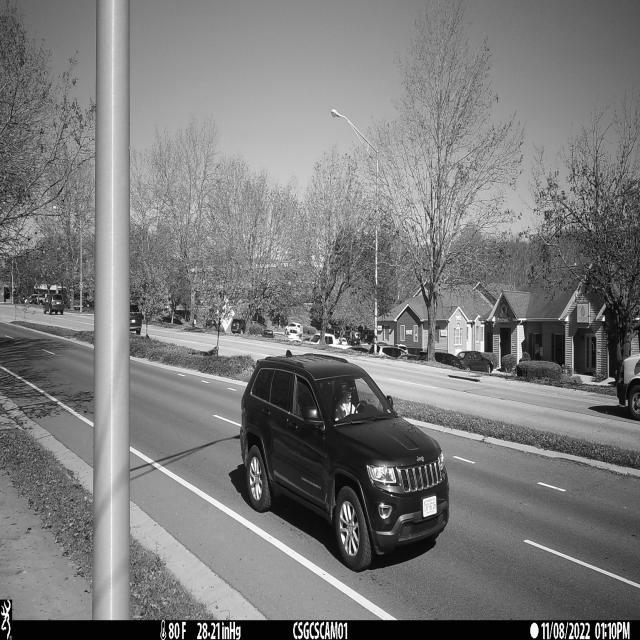SUV: (241, 350, 449, 574)
